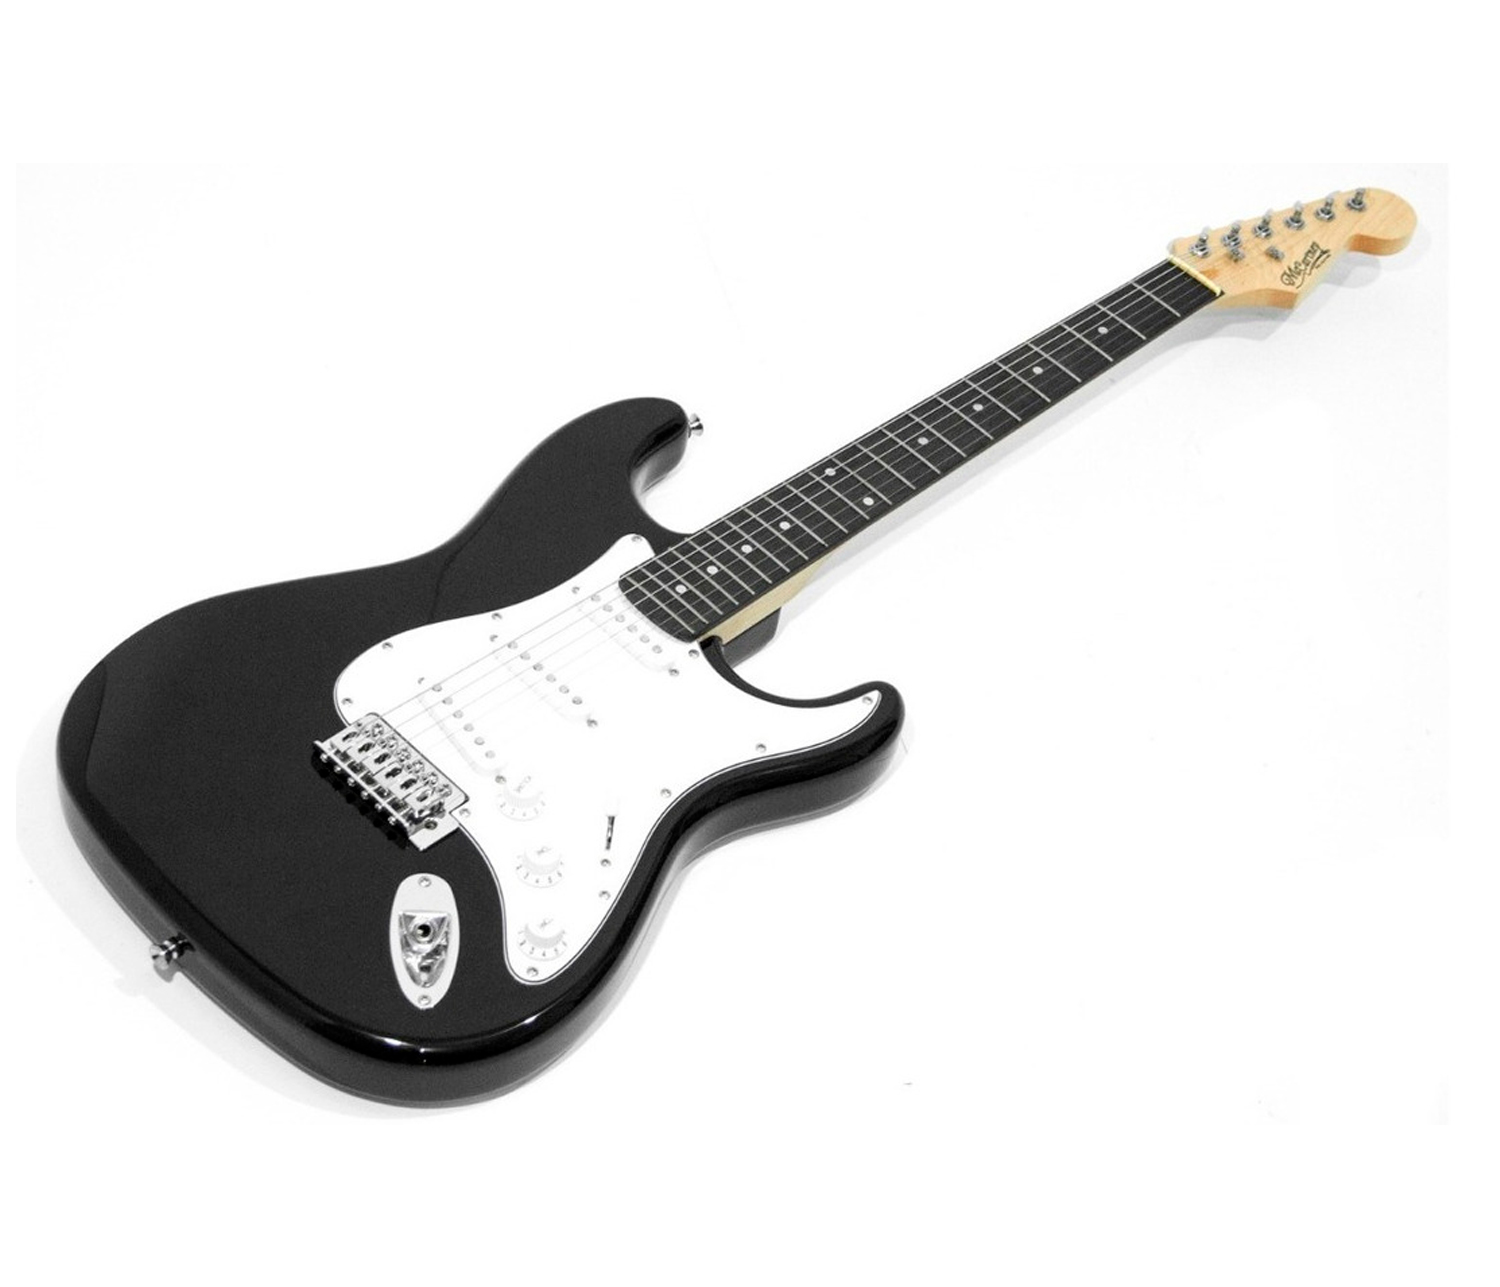guitar: (41, 164, 1441, 1105)
